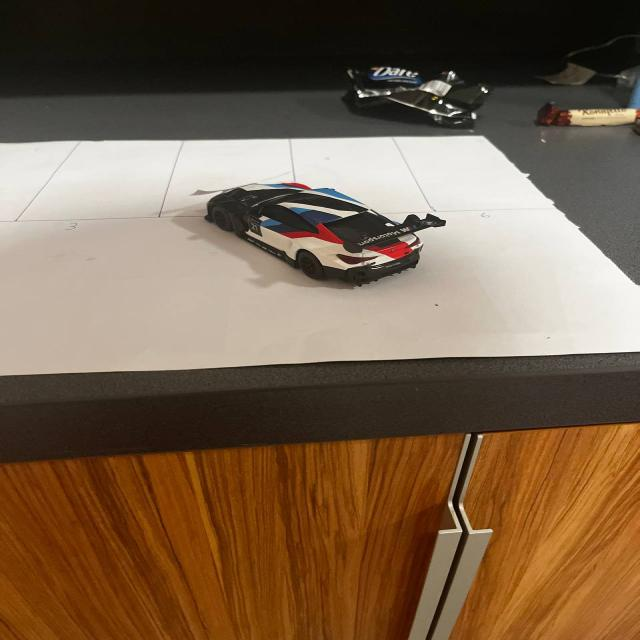cars: (163, 169, 480, 313)
